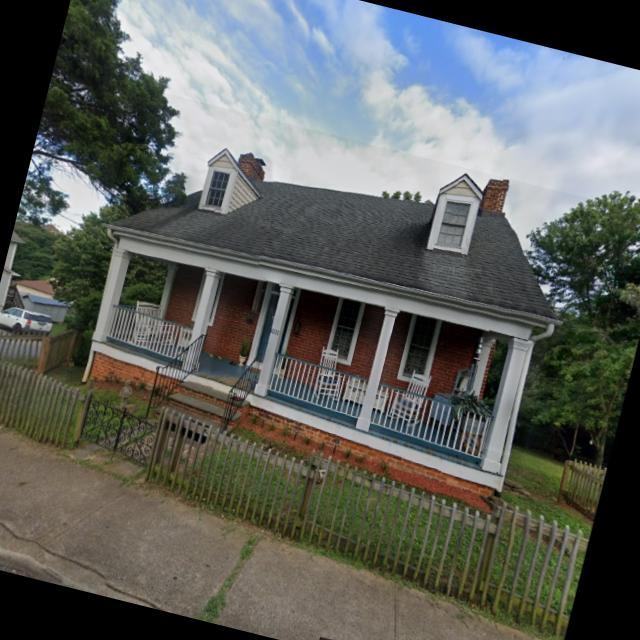House: (59, 86, 586, 515)
